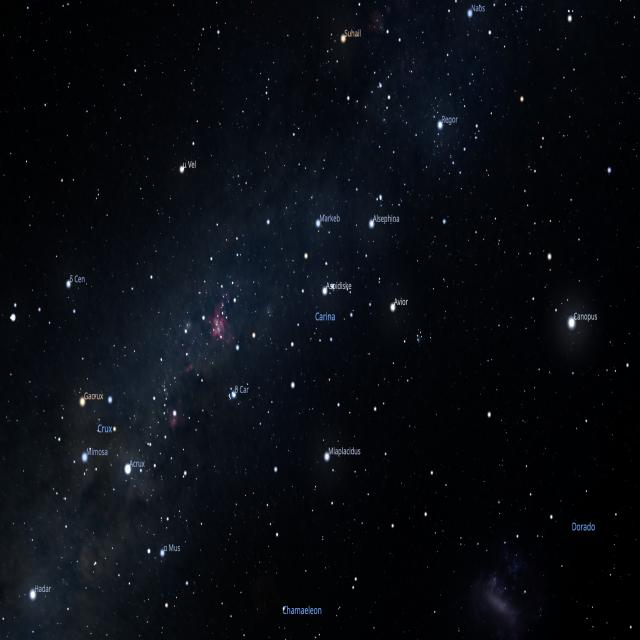Carina: (231, 0, 616, 466)
